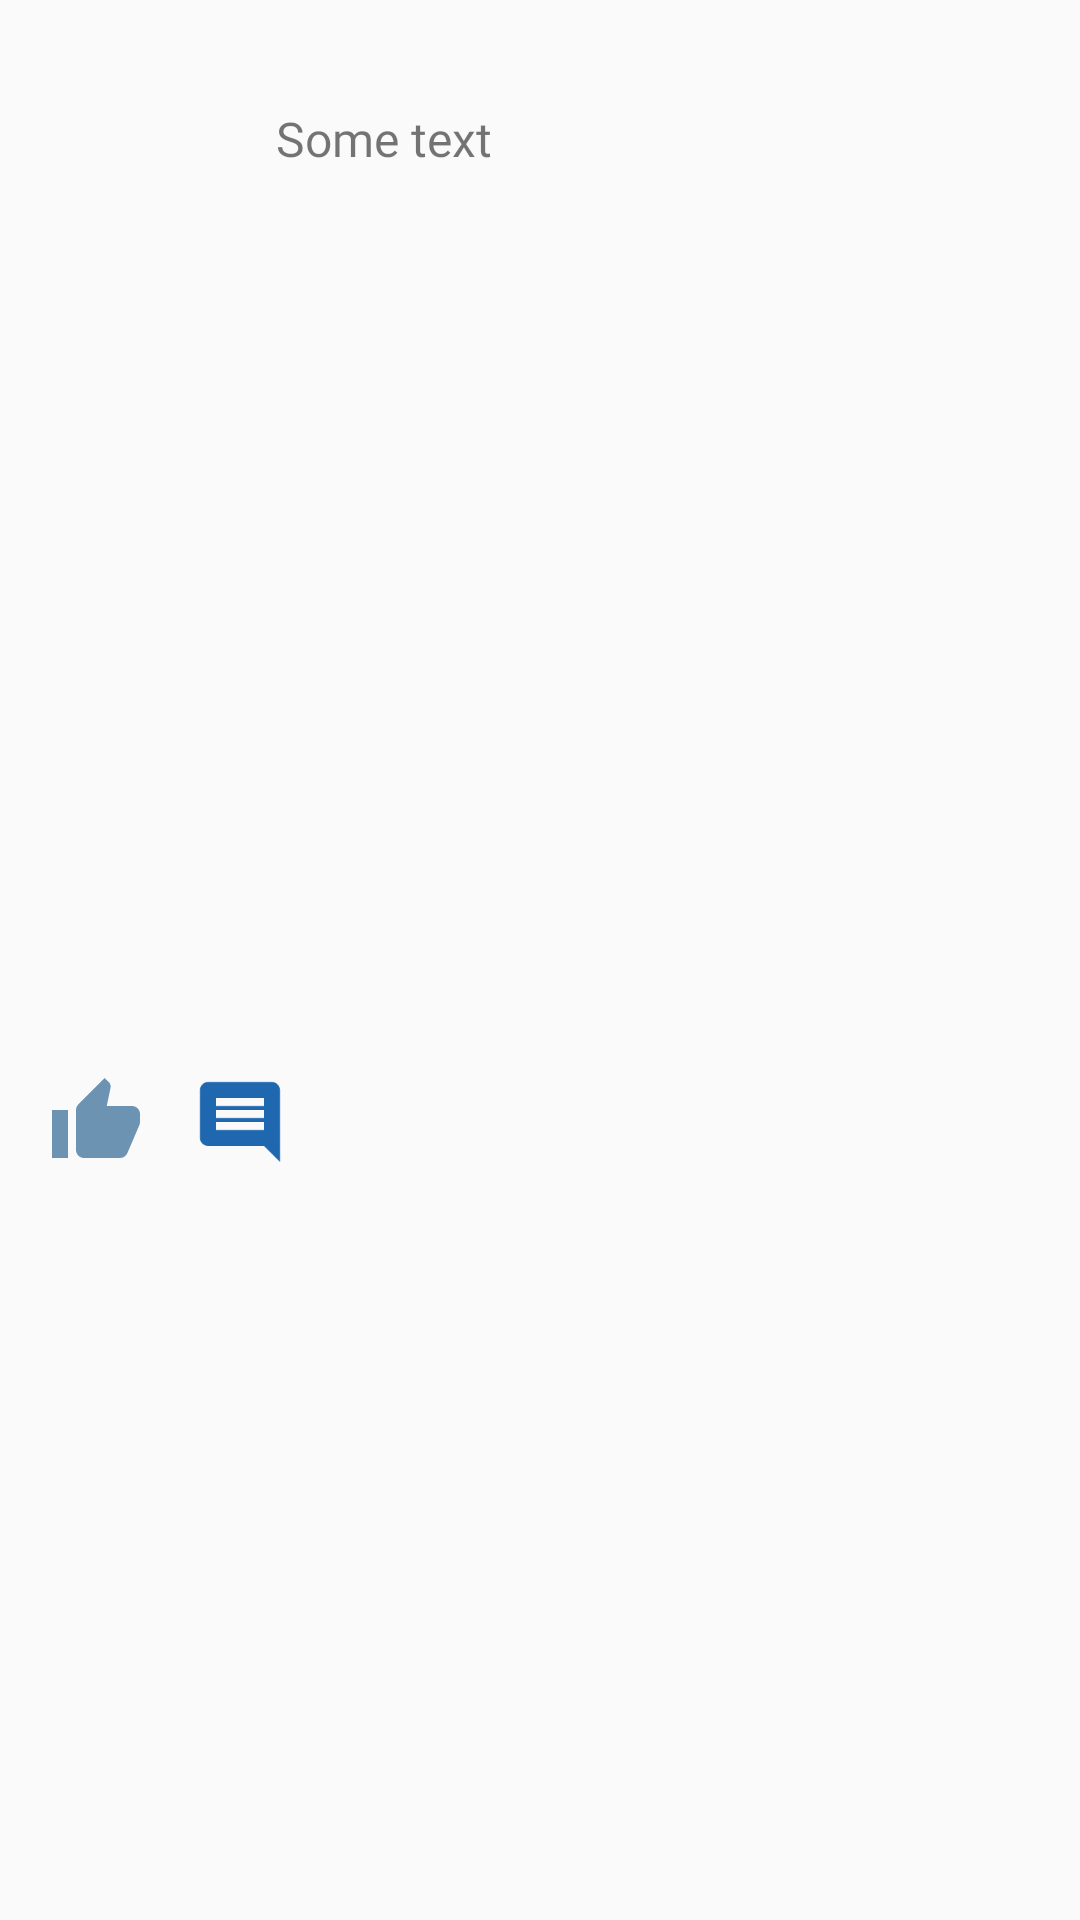

Point at icon controls on the screen. Image size 1080×1920, points as point (x, y).
comment gallery: point (240, 1121)
like off: point (96, 1118)
